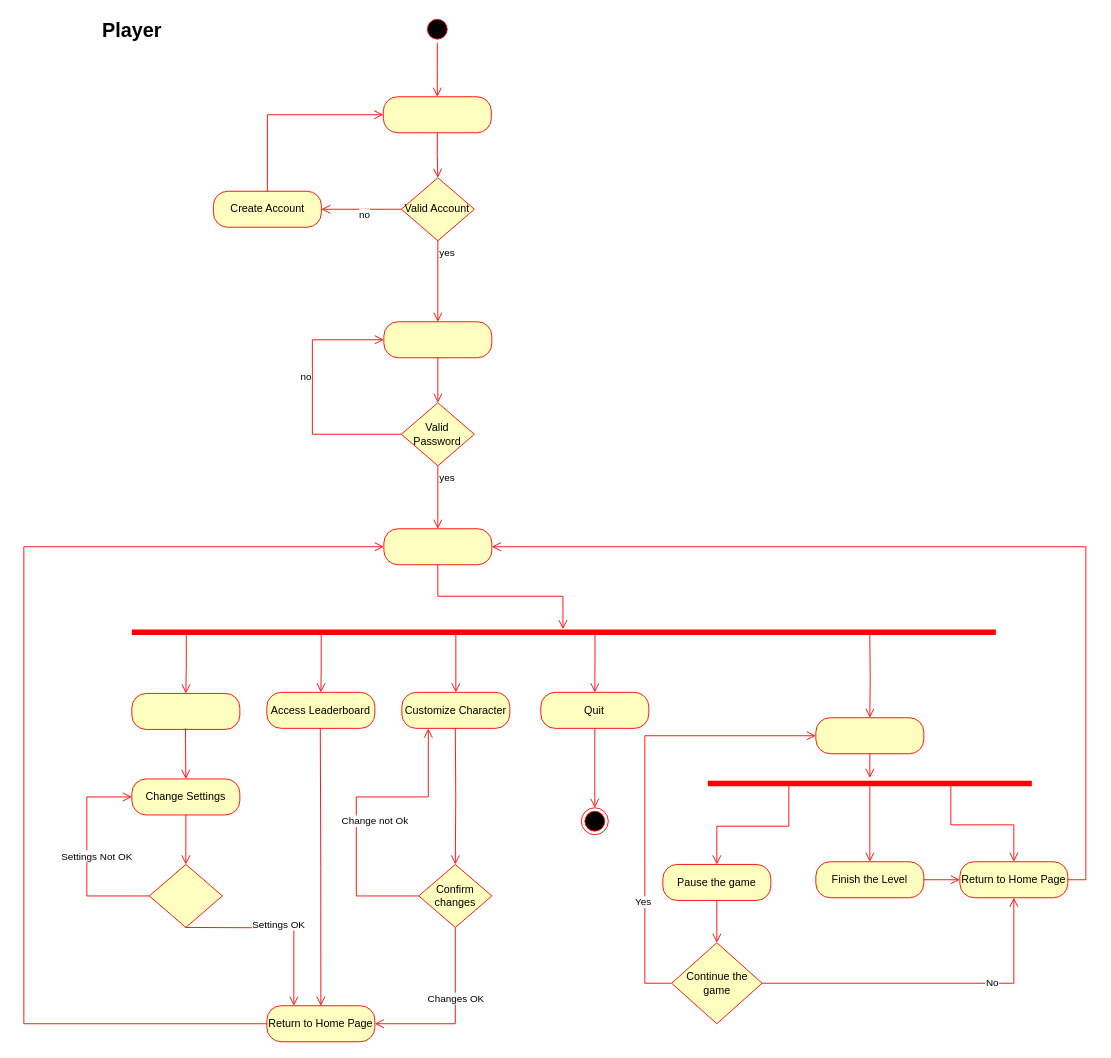
Some shapes in this 1111 by 1058 pixel diagram are drawn without their labels. The box of each missing label's shape, as (x1, y1, x2, y2) in pixels:
Access Home Page: (383, 528, 492, 565)
Access Settings: (131, 693, 240, 729)
Access Start Page: (382, 96, 491, 133)
Confirm Settings: (148, 864, 222, 927)
Log In: (383, 321, 492, 358)
Play Game: (815, 717, 924, 754)
